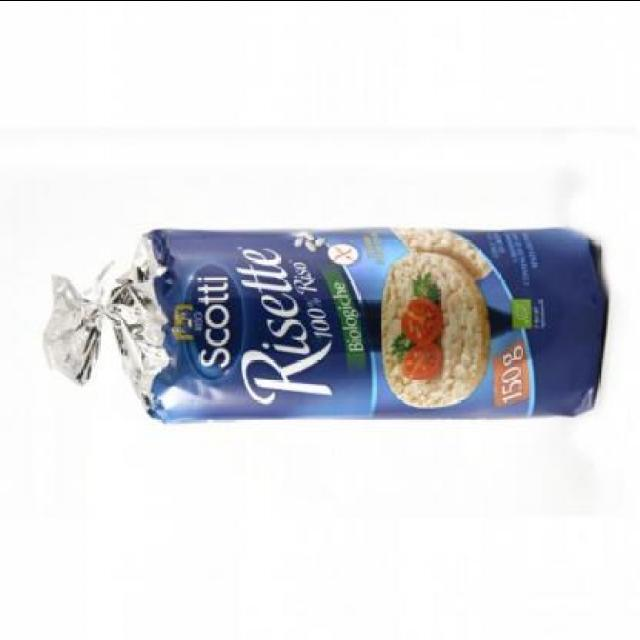Gallette di riso: (43, 223, 612, 431)
